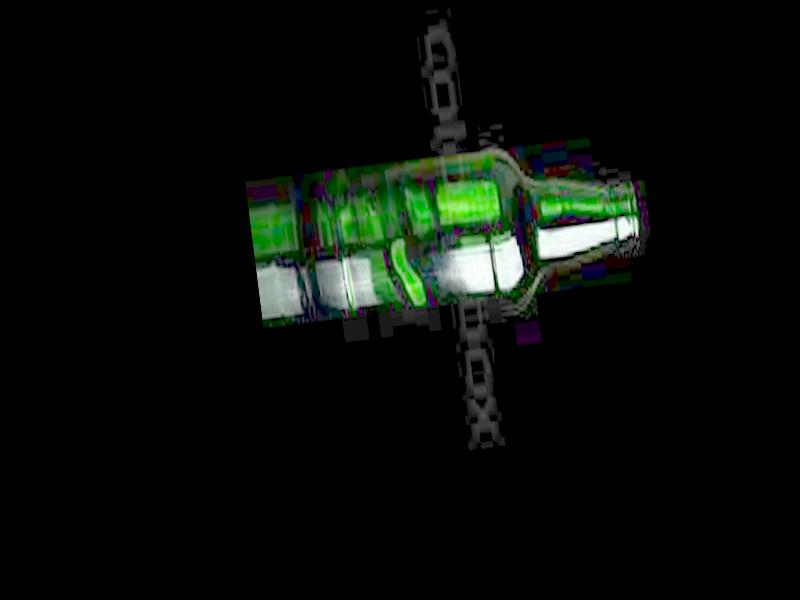Beer: (328, 130, 644, 311)
